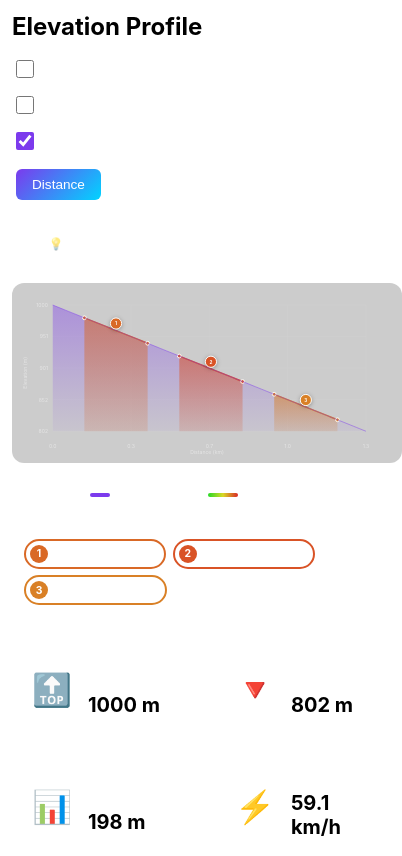
ProfileView › Zoom Functionality › should show reset zoom button after zooming
Press the mouse on the icon that starts with "Elevation": (207, 373) 20,291 -> 394,455
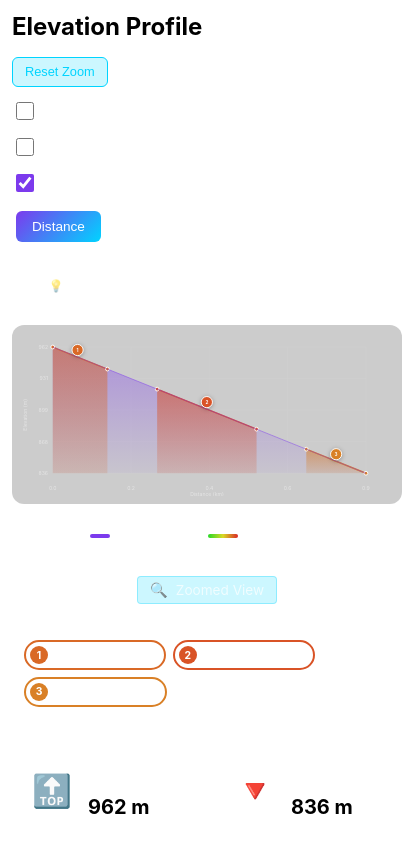
Now the button "Reset Zoom" is shown, box 12,57 -> 108,87
